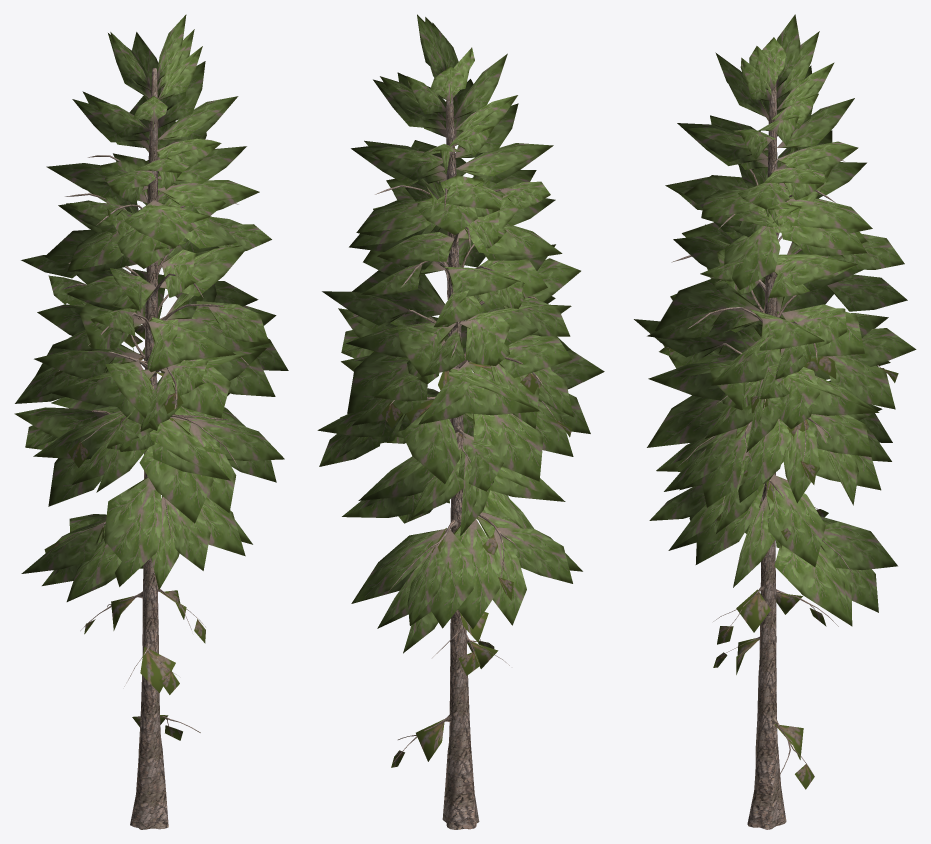
The model's file is spruce_LOD2.fbx.
3 renders of one model, left to right at view 1: azimuth 30°, elevation 25°; view 2: azimuth 150°, elevation 25°; view 3: azimuth 270°, elevation 25°, orthographic.
Parts seen in each view (by area): view 1: spruce branch_1, bark08_0, branch06_2; view 2: spruce branch_1, bark08_0, branch06_2; view 3: spruce branch_1, bark08_0, branch06_2.
Boxes of the visible parts, bbox=[...] form: spruce branch_1: bbox=[14, 14, 288, 601]; bark08_0: bbox=[58, 68, 253, 829]; branch06_2: bbox=[44, 315, 229, 740]; spruce branch_1: bbox=[317, 14, 604, 653]; bark08_0: bbox=[347, 98, 556, 829]; branch06_2: bbox=[340, 339, 571, 767]; spruce branch_1: bbox=[634, 14, 916, 626]; bark08_0: bbox=[664, 83, 881, 829]; branch06_2: bbox=[667, 347, 898, 789].
Size of the model in its own units: 353 by 1062 by 339.
3 materials, 3 textured.
